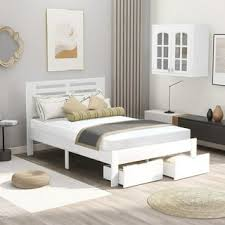bed-matress: (27, 111, 198, 165)
